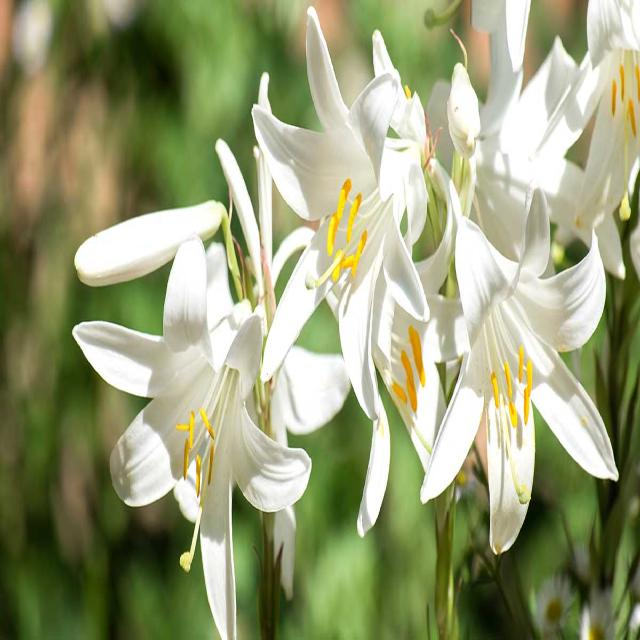lily: (70, 244, 330, 640), (438, 189, 620, 584)
